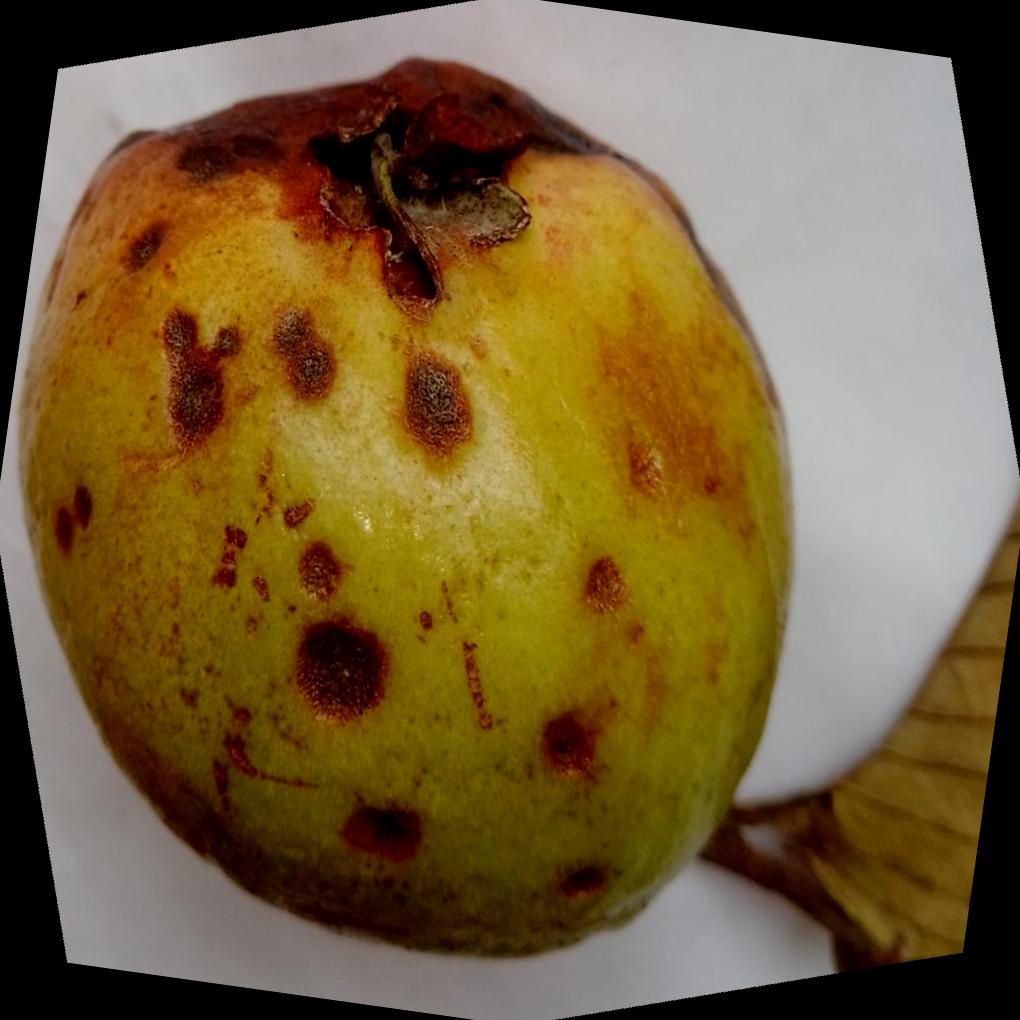FreshOrange: (17, 54, 795, 959)
